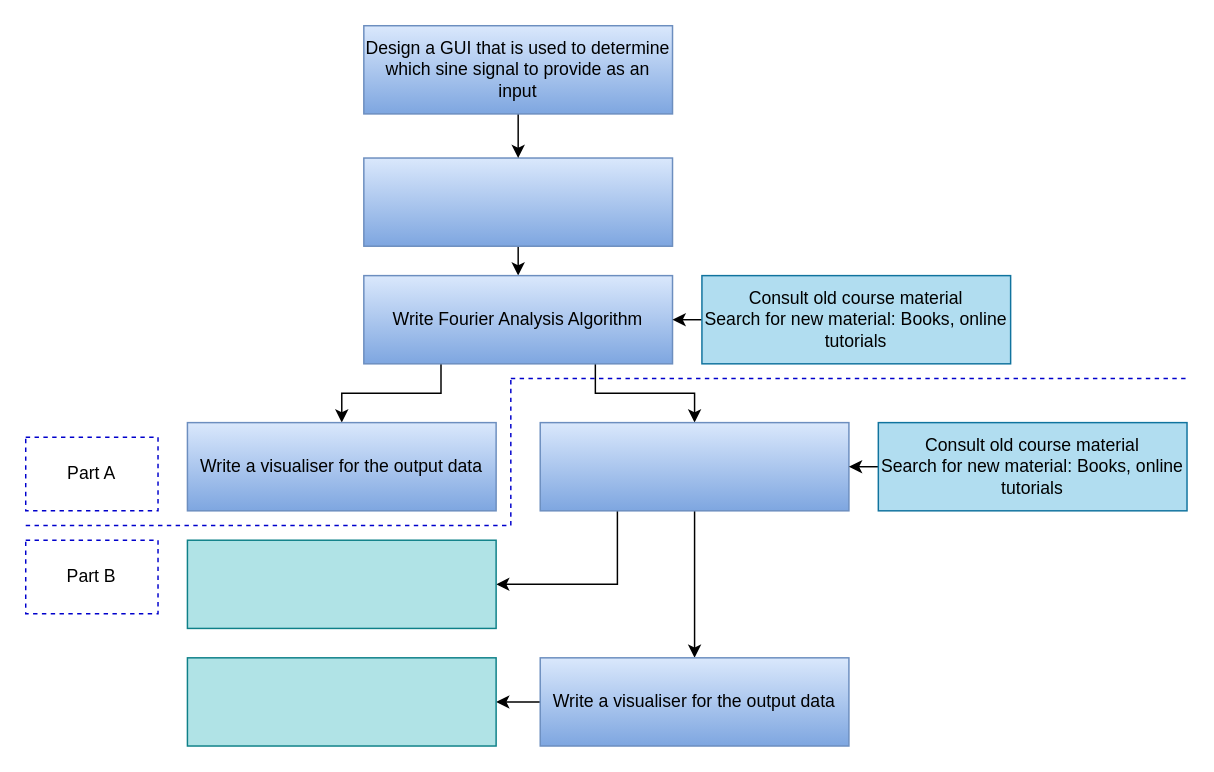
Some shapes in this 1214 by 772 pixel diagram are drawn without their labels. Here are the shapes that lost their labels. From the top down, the centre of each, then its label:
the point at 517,201: Generate the sine values of a specific frequency
the point at 694,466: Choose and learn how to design and program a control system in C
the point at 341,583: Check by comparing the output of the system to the simulation in 20sim on the pc
the point at 341,701: The Arduino Serial Plotter could do Or some other framework may help
